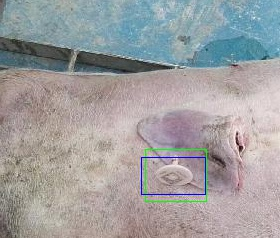text: (145, 149, 206, 201)
